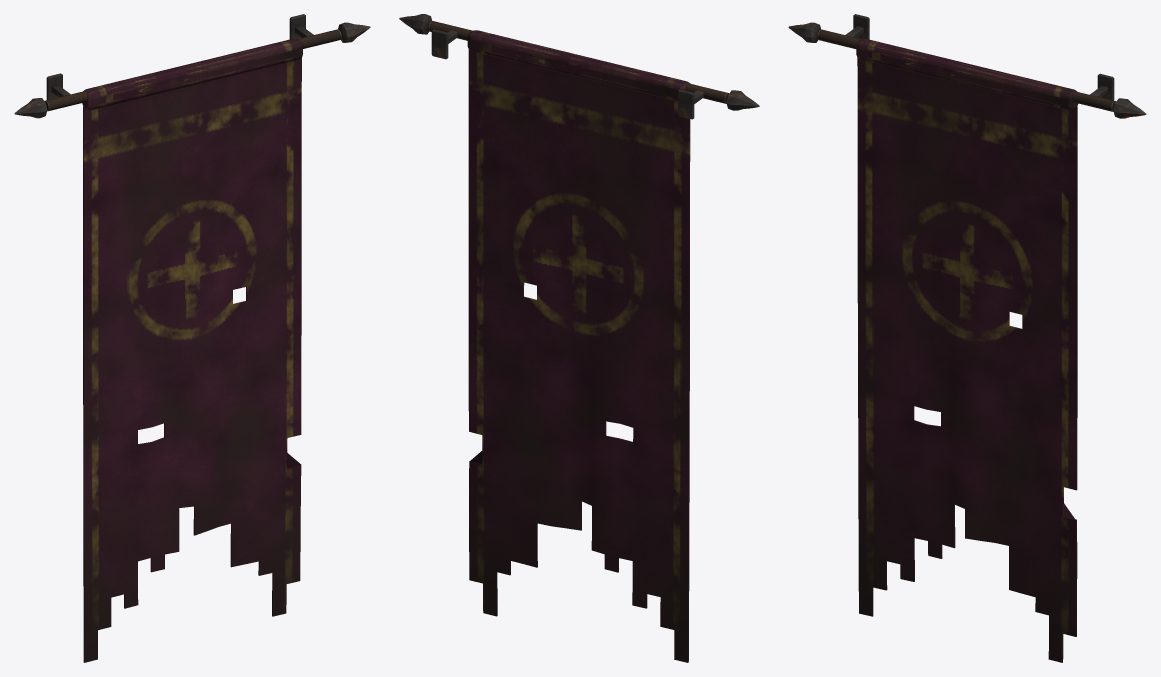
File: banner.glb
3 views of the same model, side by side, from view 1: azimuth 30°, elevation 25°; view 2: azimuth 150°, elevation 25°; view 3: azimuth 330°, elevation 25° (orthographic).
Visible parts, largest first — view 1: Banner; view 2: Banner; view 3: Banner.
Boxes of the visible parts, <box> form: Banner: <box>14,14,370,662</box>; Banner: <box>399,14,759,662</box>; Banner: <box>788,14,1146,662</box>.
Bounding box in the file's own units: 1.14 × 1.78 × 0.126.
1 material, 1 textured.
